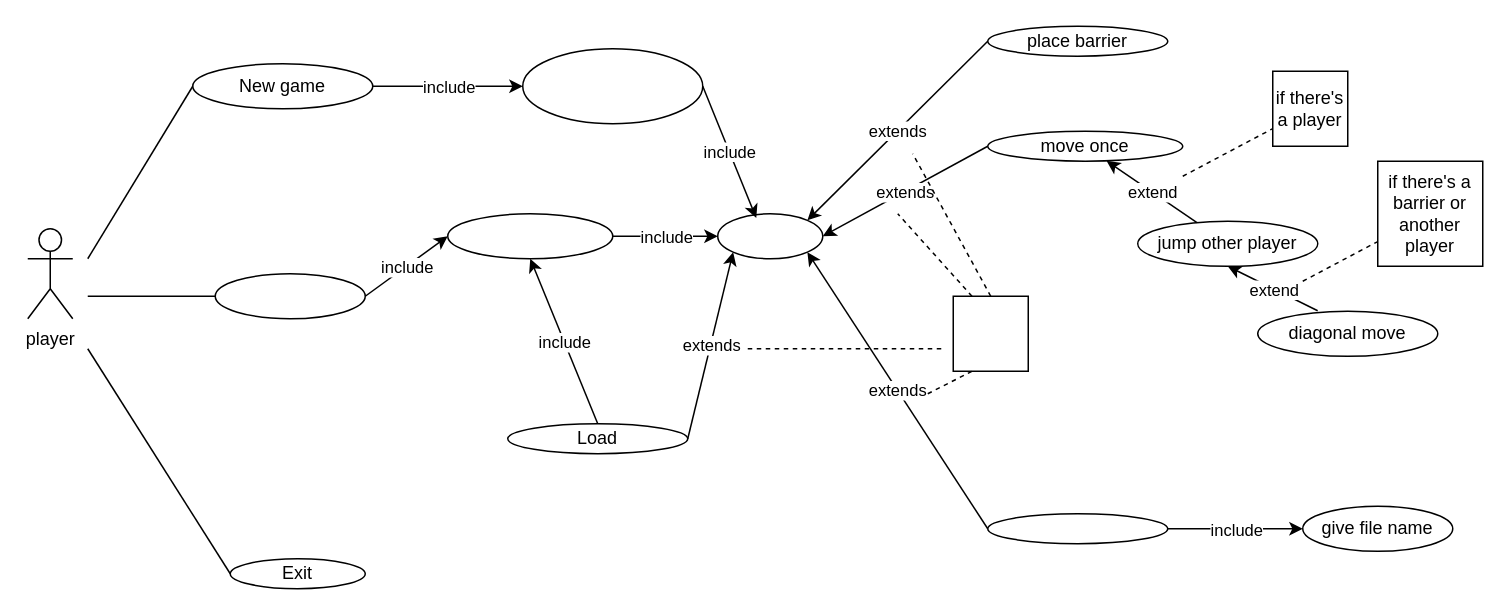
The diagram is 1509 pixels wide and 615 high, and some of its shapes have lost their labels. The shapes that lost their labels are listed below. From the top down, each one's centre as x and y in pixels, then its label:
At point (612, 85): "choose number of players".
At point (529, 235): "choose file".
At point (769, 235): "play".
At point (289, 295): "Continue".
At point (990, 333): "if button clicked".
At point (1077, 528): "Save".
